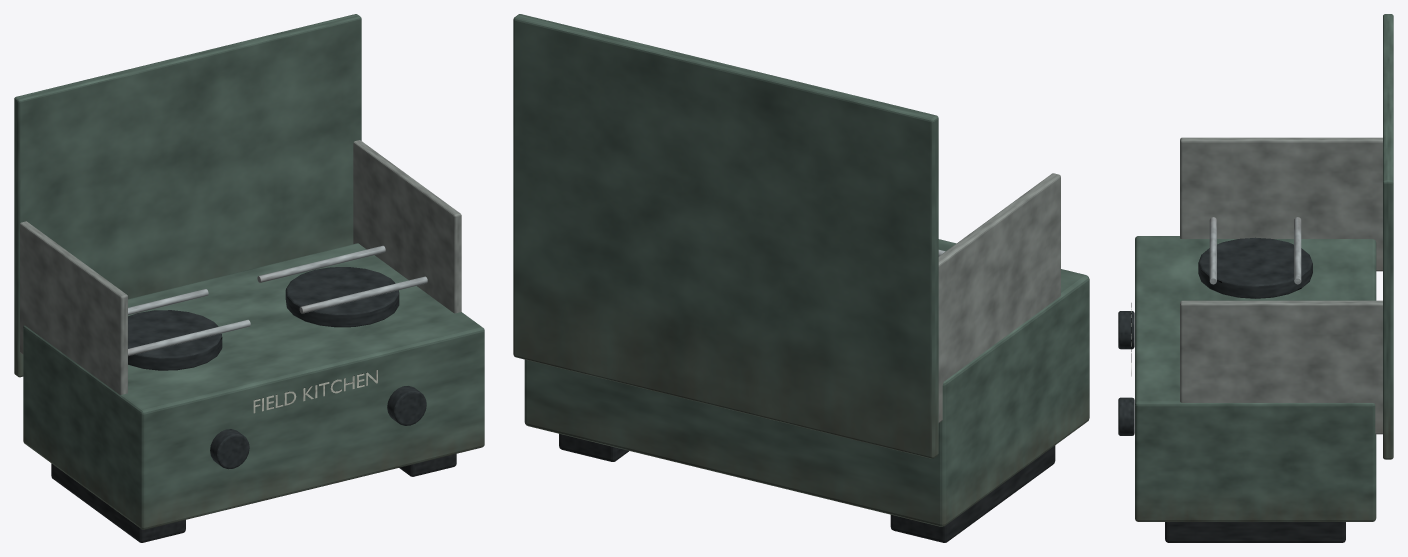
The model's file is GR_CampStove_02.glb.
3 views of the same model, side by side, from view 1: azimuth 30°, elevation 25°; view 2: azimuth 150°, elevation 25°; view 3: azimuth 270°, elevation 25° (orthographic). The views are drawn at different scales.
Visible parts, largest first — view 1: Static; view 2: Static; view 3: Static.
Part boxes in pixels (x1=…): Static: x1=14, y1=14, x2=484, y2=542; Static: x1=513, y1=14, x2=1089, y2=542; Static: x1=1118, y1=14, x2=1393, y2=542.
Bounding box in the file's own units: 0.66 × 0.675 × 0.4565.
1 material, 1 textured.
